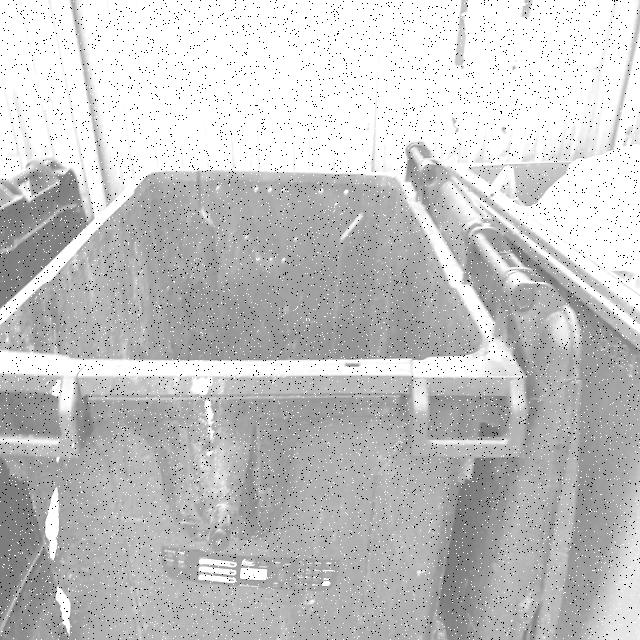Trashcan: (0, 91, 538, 640)
